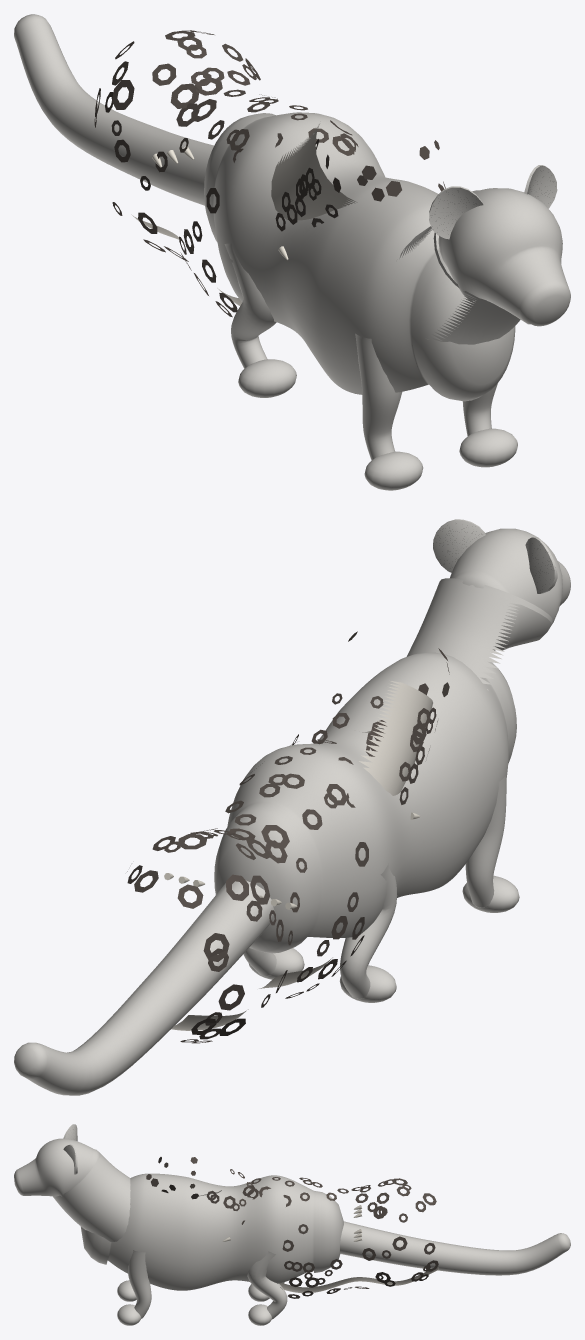
File: other-snow-leopard.glb
3 renders of one model, top to bottom at view 1: azimuth 30°, elevation 25°; view 2: azimuth 150°, elevation 25°; view 3: azimuth 270°, elevation 25°, orthographic. The views are drawn at different scales.
Visible parts, largest first — view 1: snow-leopard; view 2: snow-leopard; view 3: snow-leopard.
Part boxes in pixels (left/top/right/bottom): snow-leopard: left=14, top=14, right=570, bottom=490; snow-leopard: left=14, top=519, right=570, bottom=1095; snow-leopard: left=14, top=1124, right=570, bottom=1325.
Size of the model in its own units: 12513 by 26394 by 75697.
6 materials, 3 textured.
